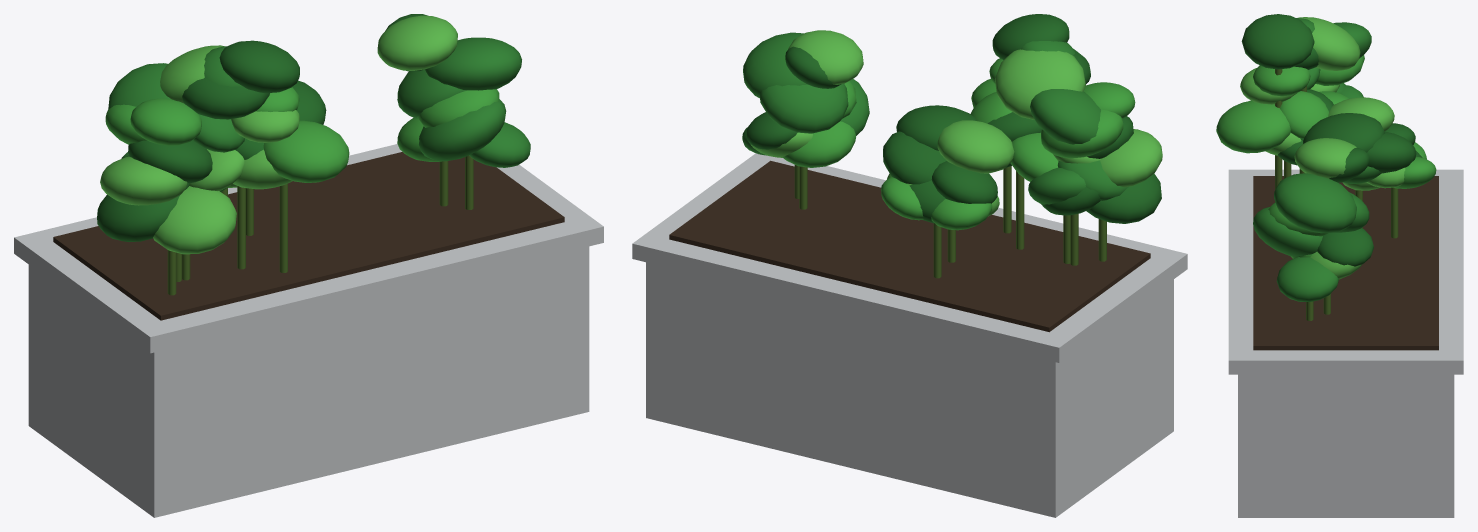
The model's file is planter.glb.
3 renders of one model, left to right at view 1: azimuth 30°, elevation 25°; view 2: azimuth 150°, elevation 25°; view 3: azimuth 270°, elevation 25°, orthographic. The views are drawn at different scales.
Parts seen in each view (by area): view 1: Asset; view 2: Asset; view 3: Asset.
Boxes of the visible parts, <box> form: Asset: <box>14,14,603,517</box>; Asset: <box>632,14,1187,517</box>; Asset: <box>1216,14,1463,517</box>.
Size of the model in its own units: 1.48 by 1.31 by 0.8001.
